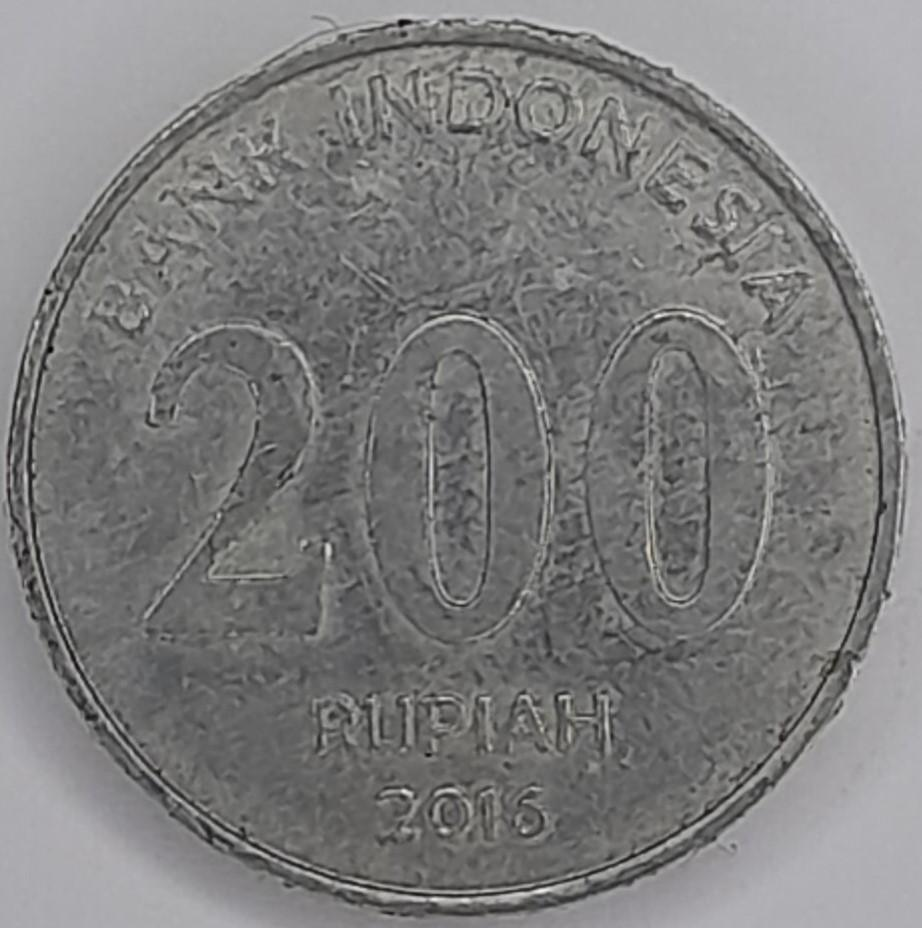coin_200_e2016: (0, 16, 922, 928)
